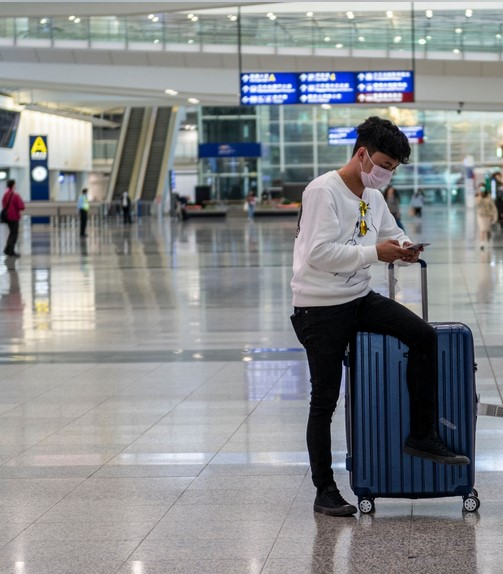face_with_mask: (350, 120, 413, 191)
